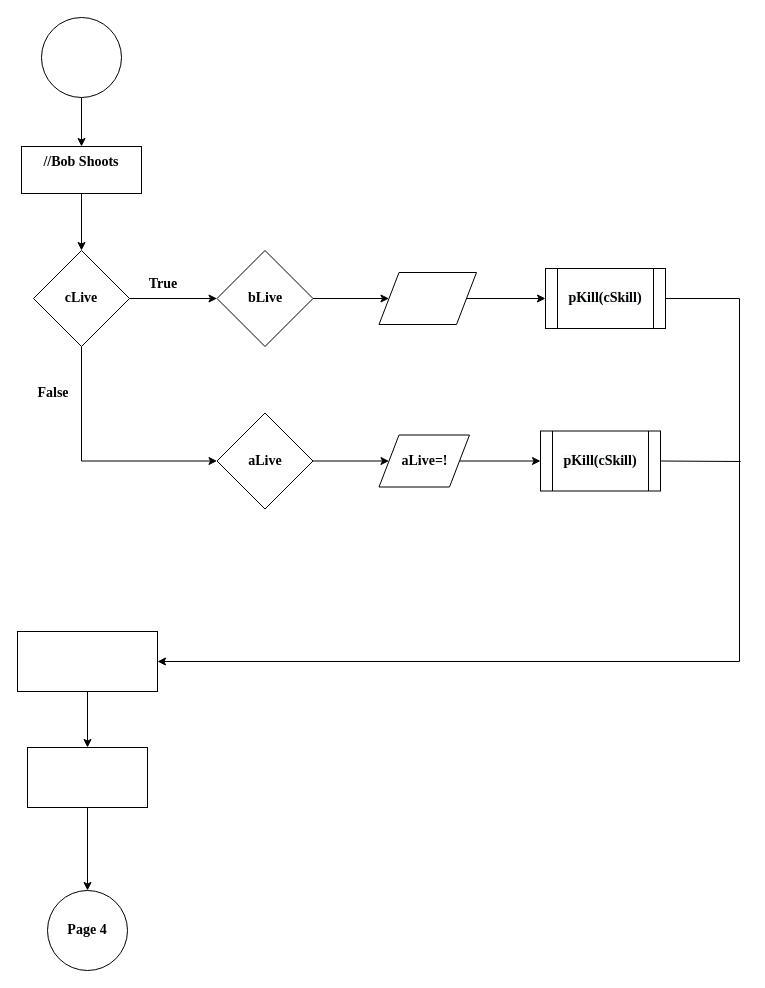
This 765x988 diagram has some shape labels left out. The shapes that lost their labels are listed below. From the top down, each one's box as (x1, y1, x2, y2) in pixels, then its label:
(40, 16, 122, 98): Page 3
(378, 272, 476, 324): bLive=!
(16, 630, 158, 692): //Display the outputs
(26, 746, 148, 808): Output "Aaron is "
